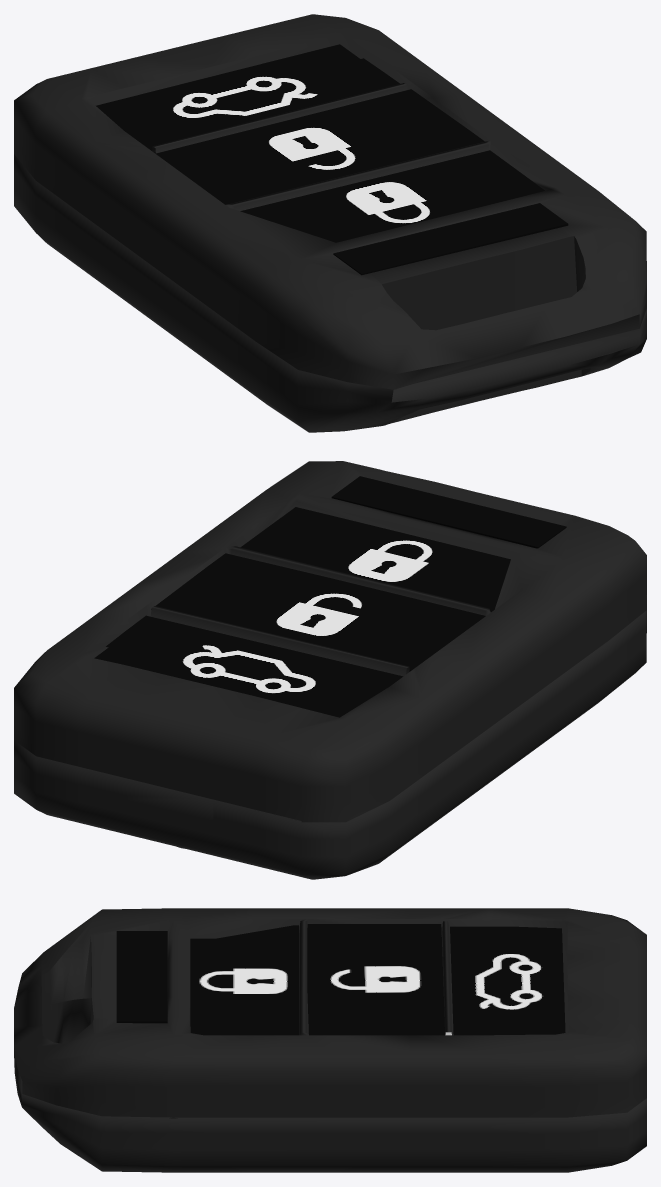
File: key2.fbx
3 renders of one model, top to bottom at view 1: azimuth 30°, elevation 25°; view 2: azimuth 150°, elevation 25°; view 3: azimuth 270°, elevation 25°, orthographic. The views are drawn at different scales.
Parts seen in each view (by area): view 1: key.002, key.003, key; view 2: key.002, key.003, key; view 3: key.002, key.003, key.
Part boxes in pixels (x1,y1,x2,y2): key.002: (14, 14, 646, 389); key.003: (96, 44, 544, 242); key: (14, 154, 646, 432); key.002: (14, 461, 646, 822); key.003: (94, 507, 510, 717); key: (14, 595, 646, 879); key.002: (14, 908, 646, 1118); key.003: (190, 924, 565, 1035); key: (14, 998, 646, 1172).
Size of the model in its own units: 5.27 by 2.02 by 9.08.
5 materials, 3 textured.
